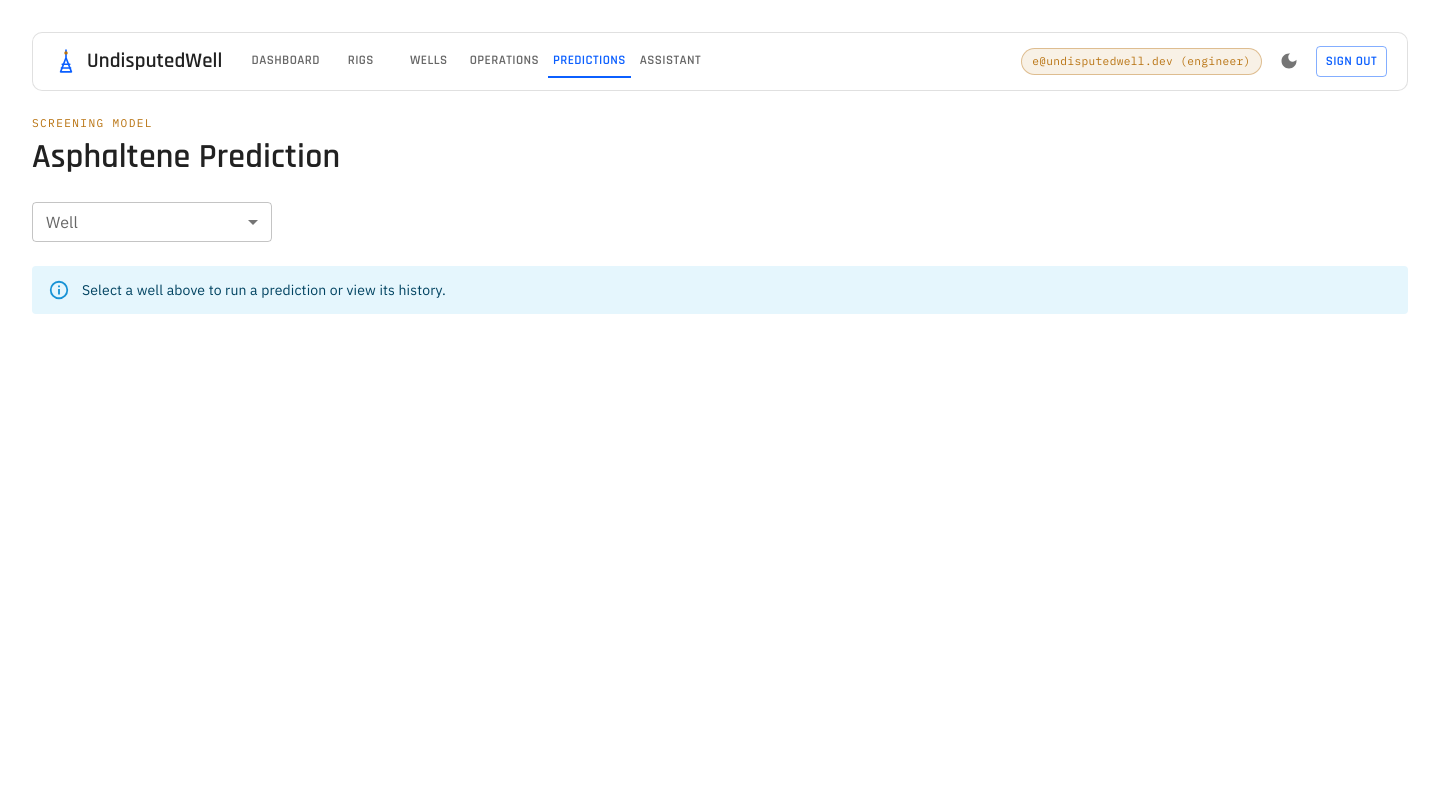
Test: PredictionPage › updates the well selection when a well is chosen from the dropdown
Click the dropdown named "Well" at (152, 222), box x1=32 y1=202 x2=272 y2=242
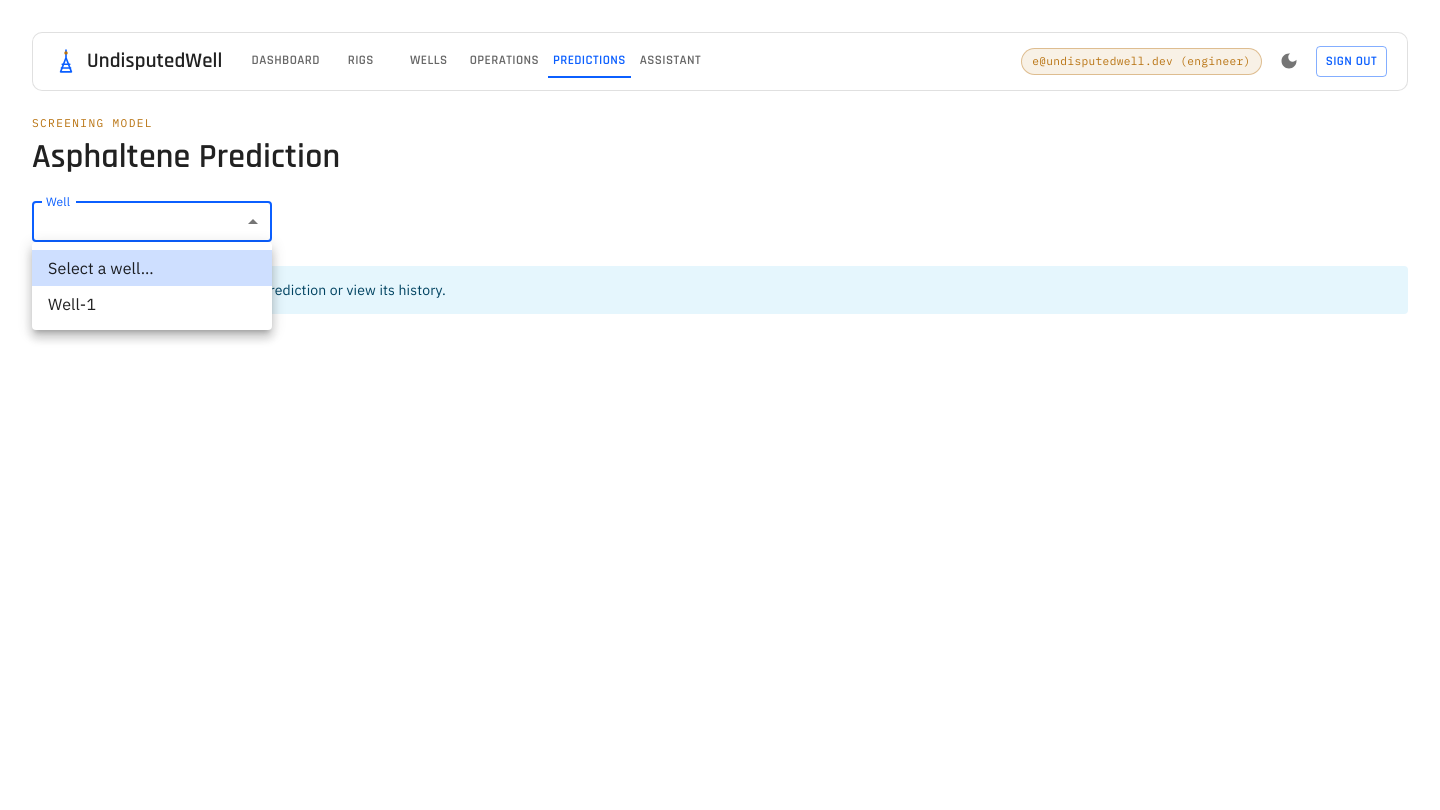
Click the option "Well-1" at (72, 304), box x1=48 y1=294 x2=96 y2=314
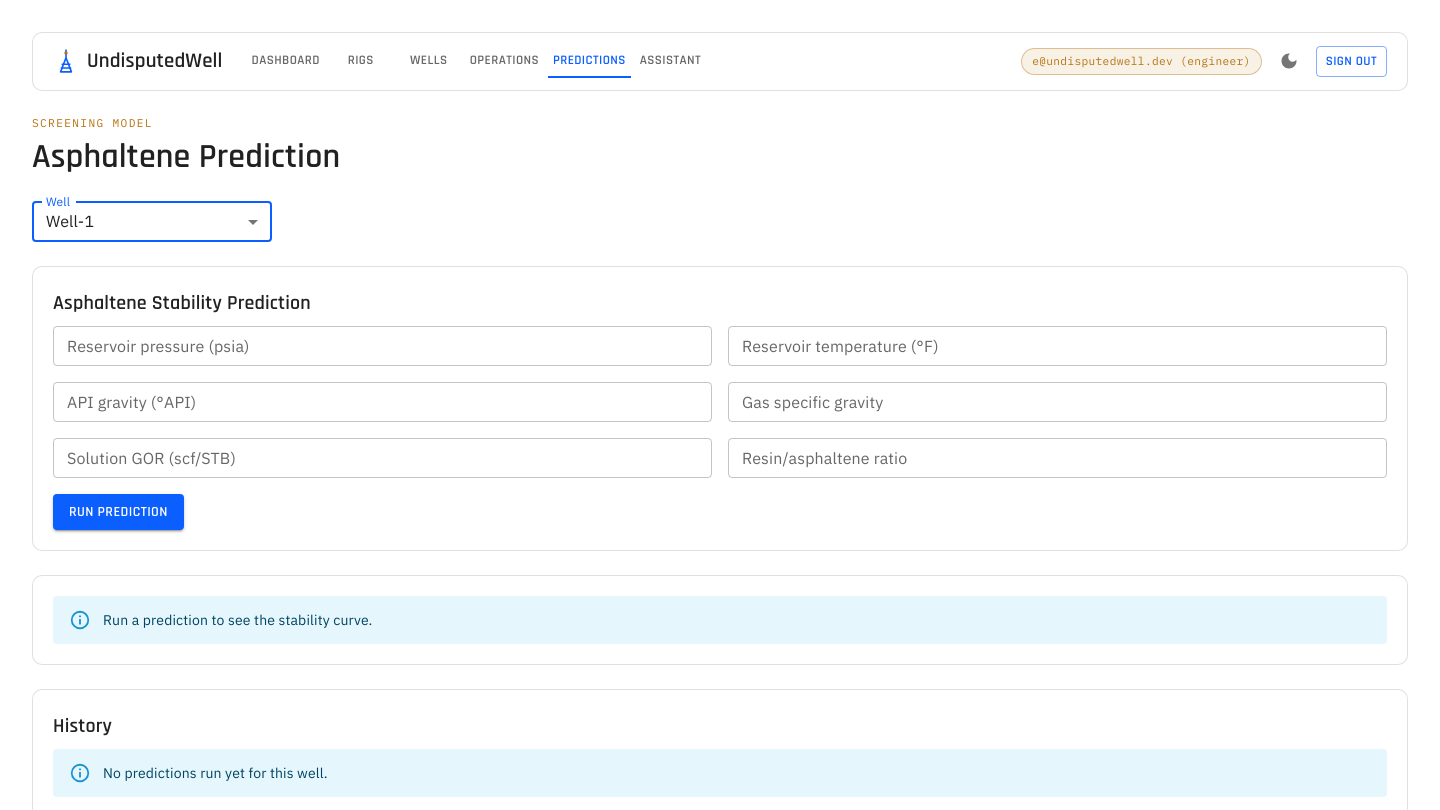
Expected: the heading "Asphaltene Stability Prediction" is shown, x1=53 y1=290 x2=311 y2=316
